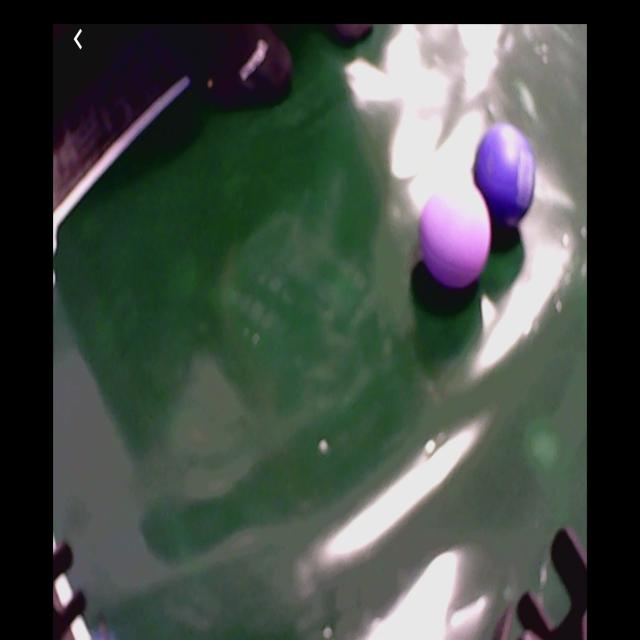ball: (421, 181, 492, 286), (475, 125, 537, 227)
